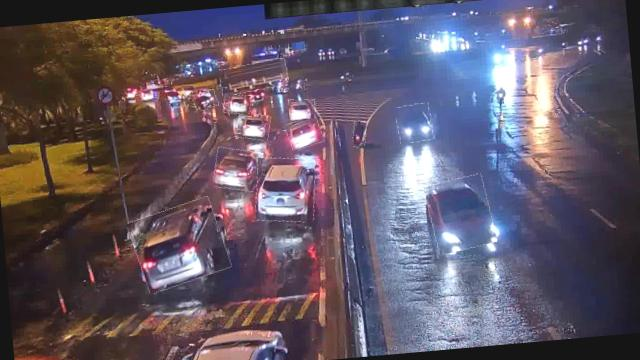Bike: (352, 121, 368, 148)
Car: (128, 200, 230, 291), (426, 174, 496, 253), (252, 155, 318, 225), (211, 145, 264, 193), (396, 103, 434, 144), (286, 116, 324, 150), (236, 111, 272, 142), (222, 93, 252, 115), (288, 98, 316, 120), (192, 90, 218, 111)
Truck: (219, 60, 289, 95)
